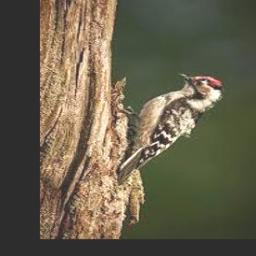Woodpecker: (119, 72, 224, 183)
